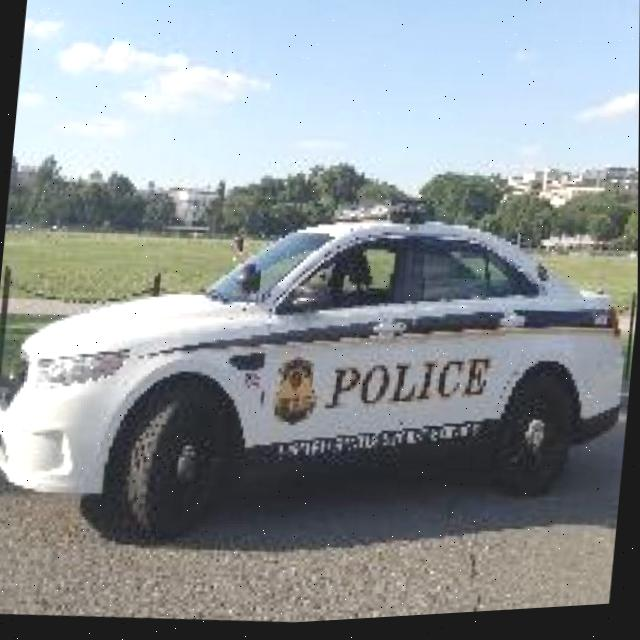emergency: (0, 169, 639, 588)
